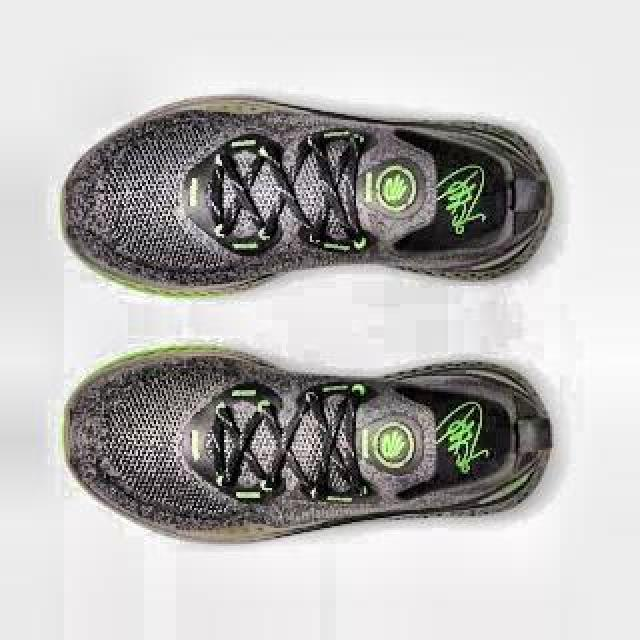shoe: (60, 94, 556, 298), (62, 344, 552, 546)
